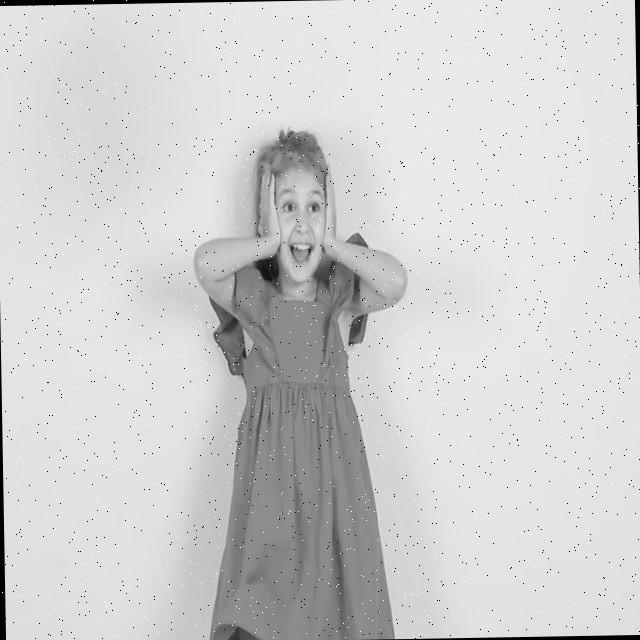Surprised: (269, 171, 329, 284)
